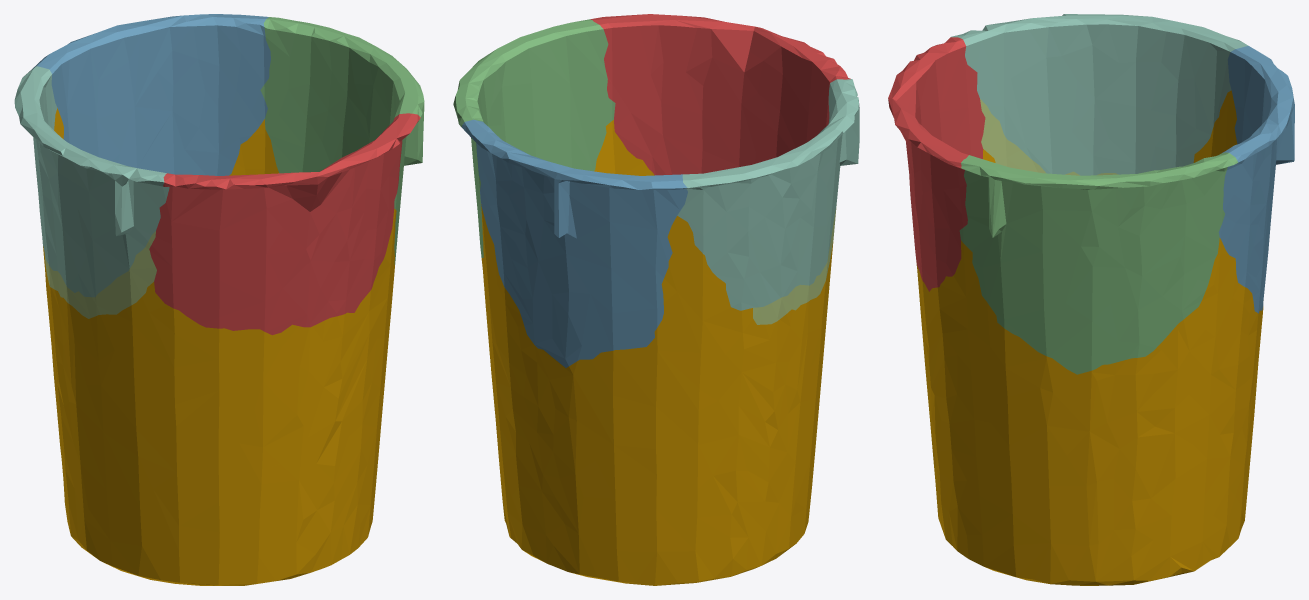
The model's file is mode_8_6pcs.glb.
3 views of the same model, side by side, from view 1: azimuth 30°, elevation 25°; view 2: azimuth 150°, elevation 25°; view 3: azimuth 270°, elevation 25° (orthographic).
Visible parts, largest first — view 1: piece_0.obj, piece_1.obj, piece_2.obj, piece_3.obj, piece_4.obj, piece_5.obj; view 2: piece_0.obj, piece_2.obj, piece_1.obj, piece_4.obj, piece_3.obj, piece_5.obj; view 3: piece_0.obj, piece_3.obj, piece_4.obj, piece_1.obj, piece_2.obj, piece_5.obj.
Part boxes in pixels (x1,y1,x2,y2): piece_0.obj: (43, 108, 396, 585); piece_1.obj: (149, 113, 420, 335); piece_2.obj: (31, 14, 270, 175); piece_3.obj: (260, 17, 424, 264); piece_4.obj: (14, 66, 169, 297); piece_5.obj: (44, 231, 156, 318); piece_0.obj: (481, 120, 833, 585); piece_2.obj: (461, 119, 687, 367); piece_1.obj: (590, 14, 850, 175); piece_4.obj: (677, 79, 859, 310); piece_3.obj: (453, 19, 615, 257); piece_5.obj: (753, 205, 836, 324); piece_0.obj: (916, 90, 1263, 585); piece_3.obj: (959, 152, 1237, 374); piece_4.obj: (951, 14, 1248, 175); piece_1.obj: (888, 37, 985, 291); piece_2.obj: (1218, 46, 1294, 313); piece_5.obj: (980, 99, 1118, 175).
Size of the model in its own units: 0.8594 by 1 by 0.8609.
